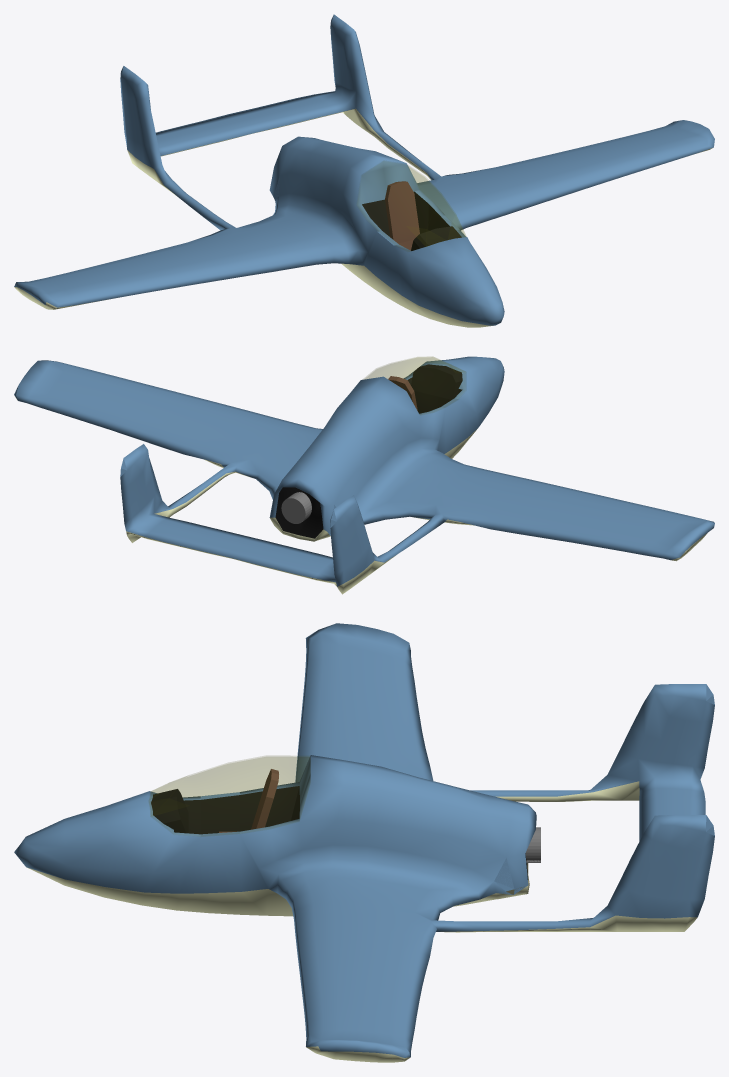
The model's file is Aircraft 1.glb.
3 renders of one model, top to bottom at view 1: azimuth 30°, elevation 25°; view 2: azimuth 150°, elevation 25°; view 3: azimuth 270°, elevation 25°, orthographic. The views are drawn at different scales.
Visible parts, largest first — view 1: Aircraft 1; view 2: Aircraft 1; view 3: Aircraft 1.
Part boxes in pixels (left/top/right/bottom): Aircraft 1: left=14, top=14, right=714, bottom=327; Aircraft 1: left=14, top=356, right=714, bottom=594; Aircraft 1: left=14, top=623, right=714, bottom=1062.
Bounding box in the file's own units: 12.65 × 2.29 × 8.96.
